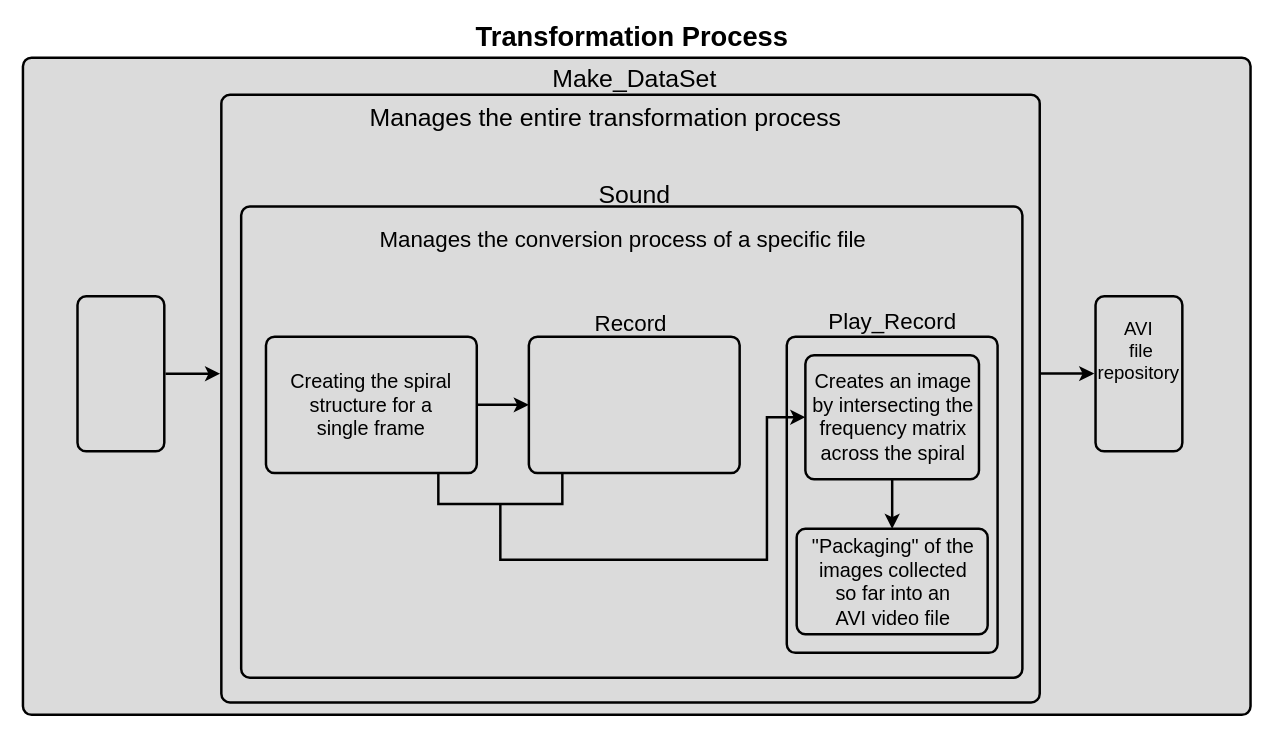
The diagram is 1272 pixels wide and 737 high, and some of its shapes have lost their labels. The shapes that lost their labels are listed below. From the top down, each one's centre as x and y in pixels, then its label:
At point 120,373: "Audio file repository".
At point 633,404: "Extract the frequencies needed for visual display from the audio file".
